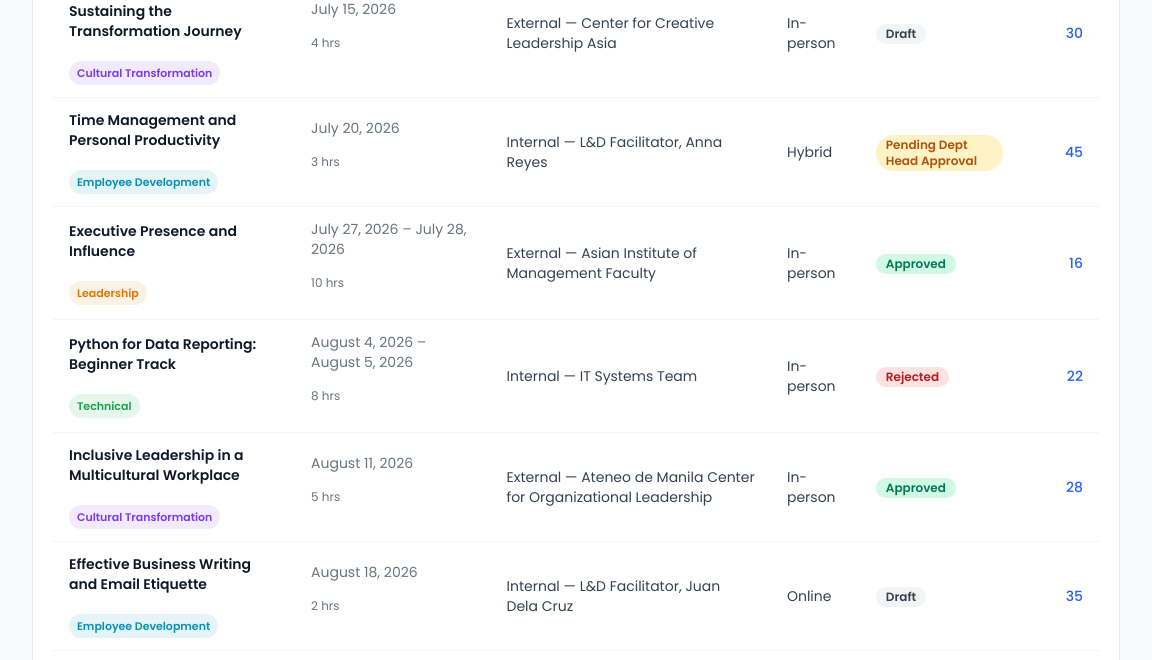
Test case: TrainingCoursesPrototype › opens a detail panel on click, showing the rejection reason
The width and height of the screenshot is (1152, 660).
(page scrolled)
Click the text "Python for Data Reporting: Beginner Track" at (174, 354), box [69,334,279,374]
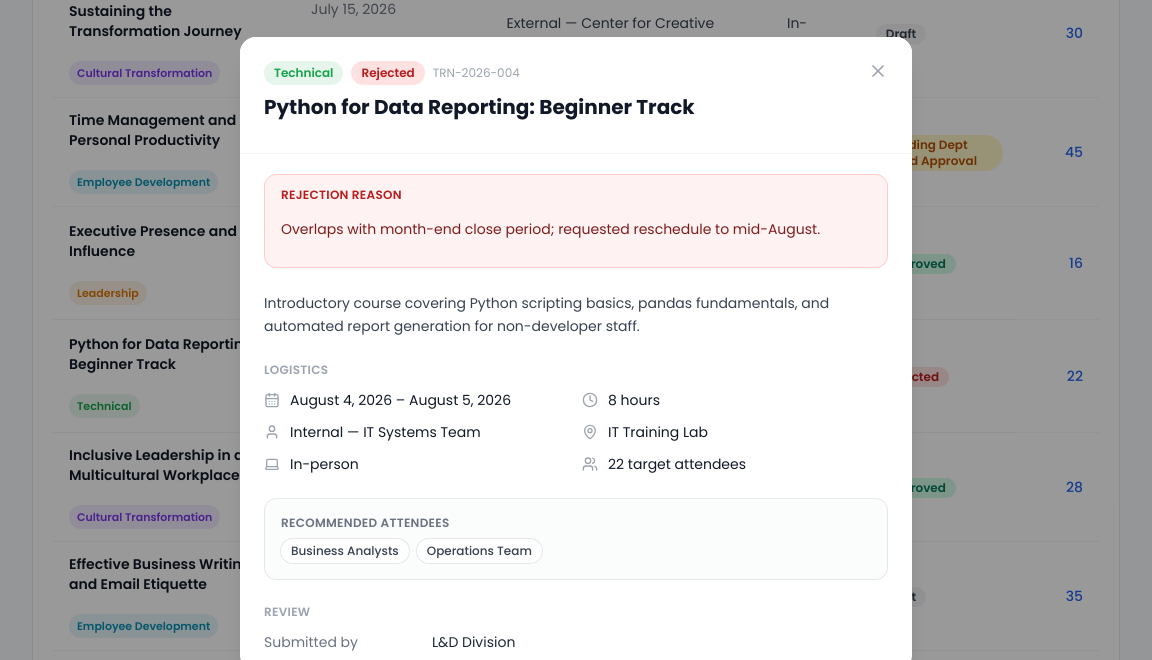
Now the text "Rejection reason" is shown, box [281,186,402,203]
Now the text "Overlaps with month-end close period" is shown, box [281,219,820,239]
Now the text "TRN-2026-004" is shown, box [433,65,520,81]
